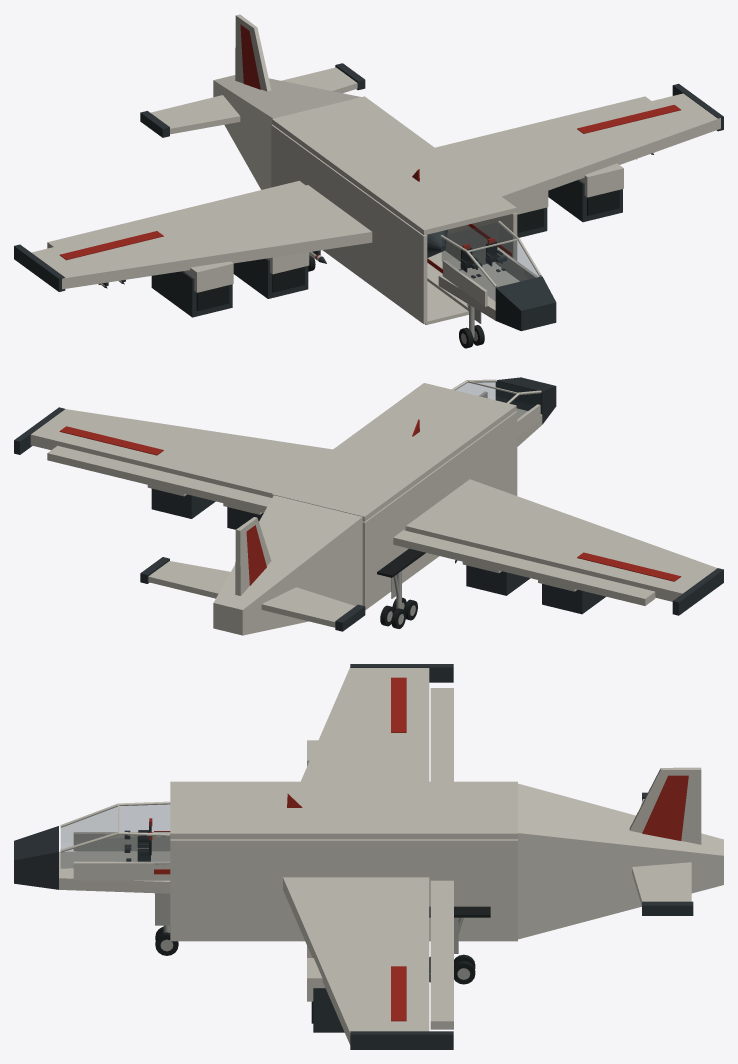
3 renders of one model, top to bottom at view 1: azimuth 30°, elevation 25°; view 2: azimuth 150°, elevation 25°; view 3: azimuth 270°, elevation 25°, orthographic. The views are drawn at different scales.
Visible parts, largest first — view 1: bomber-painted, bomber-glazing, flap-left-painted, flap-right-painted, bomber-bay-door-left-painted, crew-seating-batch-painted, bomber-bay-door-right-painted; view 2: bomber-painted, flap-left-painted, flap-right-painted, bomber-glazing, breakaway-0-painted; view 3: bomber-painted, bomber-glazing, flap-right-painted, flap-left-painted, breakaway-1-painted, crew-seating-batch-painted.
Part boxes in pixels (x1,y1,x2,y2): bomber-painted: (14,14,723,331); bomber-glazing: (442,222,539,300); flap-left-painted: (47,180,305,248); flap-right-painted: (435,96,651,152); bomber-bay-door-left-painted: (425,281,468,324); crew-seating-batch-painted: (460,238,507,278); bomber-bay-door-right-painted: (427,250,468,310); bomber-painted: (14,377,723,635); flap-left-painted: (393,530,655,605); flap-right-painted: (47,445,271,512); bomber-glazing: (456,381,540,418); breakaway-0-painted: (335,604,365,631); bomber-painted: (14,664,723,1049); bomber-glazing: (61,804,169,868); flap-right-painted: (430,880,453,1029); flap-left-painted: (430,688,453,781); breakaway-1-painted: (642,901,693,915); crew-seating-batch-painted: (124,818,152,861).
Size of the model in its own units: 195 by 44.83 by 158.
